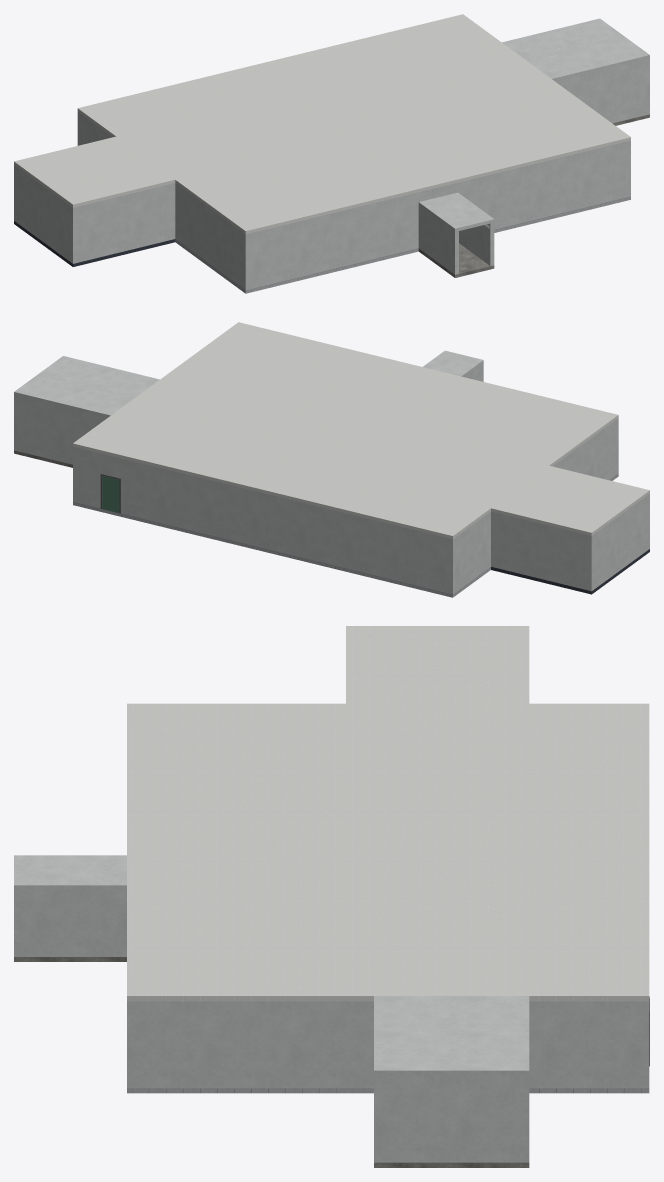
File: ServerRoom_LowPoly.glb
The picture shows the model from 3 angles, top to bottom: view 1: azimuth 30°, elevation 25°; view 2: azimuth 150°, elevation 25°; view 3: azimuth 270°, elevation 25°; orthographic projection. The views are drawn at different scales.
Parts seen in each view (by area): view 1: Server_Ceiling, Server_Walls, Server_Floor; view 2: Server_Ceiling, Server_Walls, Server_Floor, Door_Exit; view 3: Server_Ceiling, Server_Walls, Server_Floor.
Part boxes in pixels (<box>): Server_Ceiling: <box>14,14,649,234</box>; Server_Walls: <box>14,58,649,290</box>; Server_Floor: <box>14,114,649,293</box>; Server_Ceiling: <box>14,322,649,539</box>; Server_Walls: <box>14,363,649,594</box>; Server_Floor: <box>14,450,649,597</box>; Door_Exit: <box>102,475,119,512</box>; Server_Ceiling: <box>14,626,649,1075</box>; Server_Walls: <box>14,890,649,1162</box>; Server_Floor: <box>14,957,649,1167</box>.
Size of the model in its own units: 37.25 by 3.8 by 22.52.
Materials: 46 (9 with a texture image).
